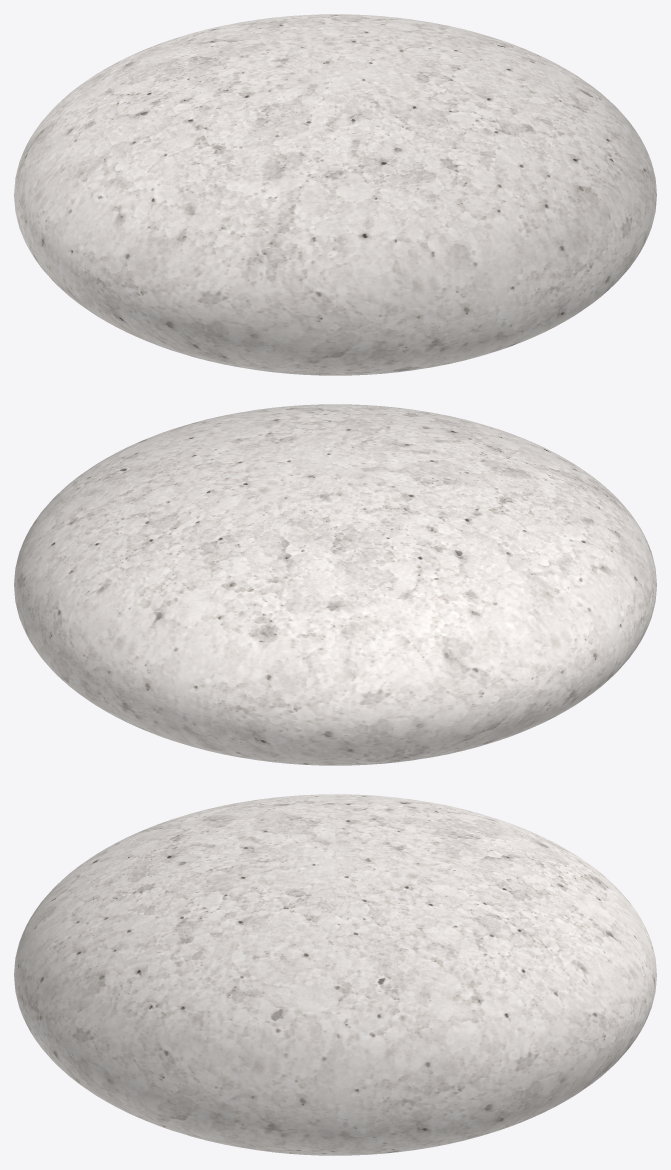
The model's file is go-stone-white.glb.
3 renders of one model, top to bottom at view 1: azimuth 30°, elevation 25°; view 2: azimuth 150°, elevation 25°; view 3: azimuth 270°, elevation 25°, orthographic.
Visible parts, largest first — view 1: go-stone-white; view 2: go-stone-white; view 3: go-stone-white.
Part boxes in pixels (bbox=[...]): go-stone-white: bbox=[14, 14, 656, 375]; go-stone-white: bbox=[14, 404, 656, 765]; go-stone-white: bbox=[14, 794, 656, 1155].
Bounding box in the file's own units: 0.022 × 0.009 × 0.022.
Materials: 1 (1 with a texture image).
